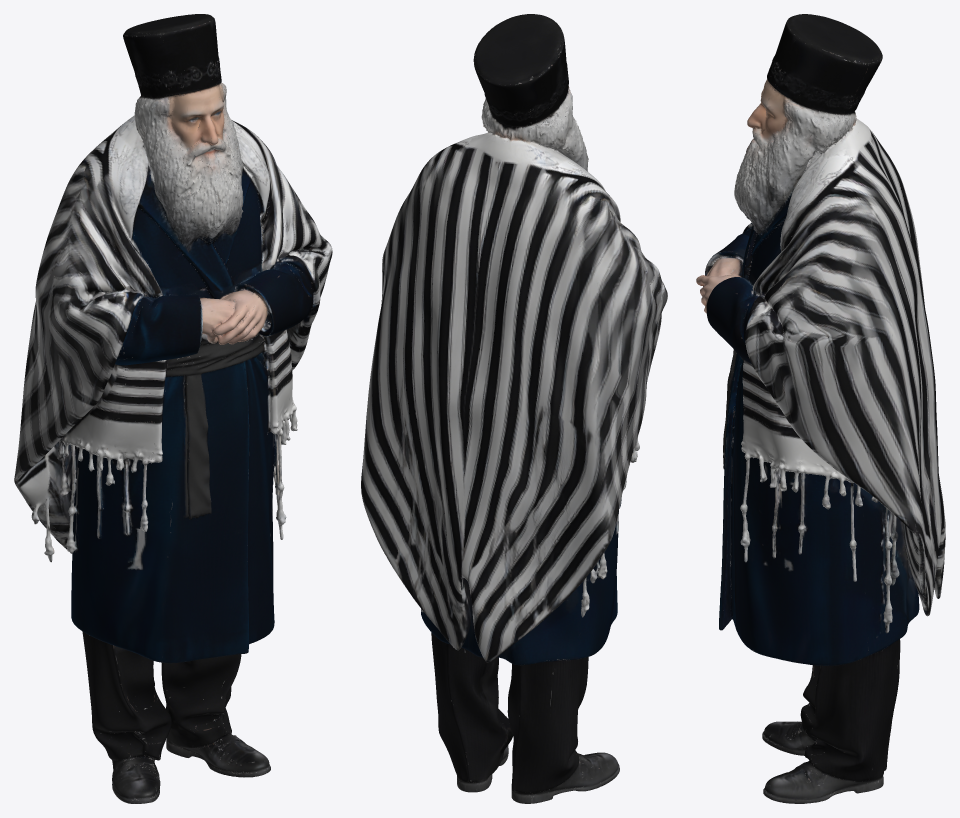
Rendered from alter_rebbe.glb.
The picture shows the model from 3 angles, left to right: view 1: azimuth 30°, elevation 25°; view 2: azimuth 150°, elevation 25°; view 3: azimuth 270°, elevation 25°; orthographic projection.
Bounding box in the file's own units: 0.7406 × 2 × 0.6039.
Materials: 1 (1 with a texture image).
